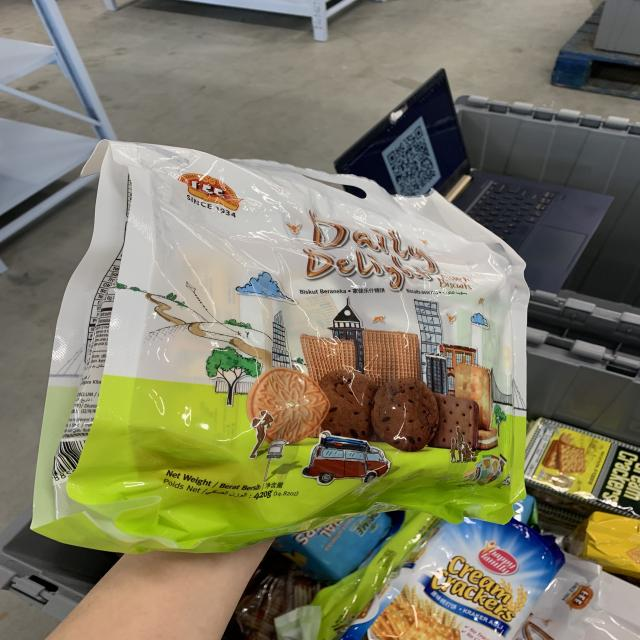object_name: (91, 145, 511, 522)
